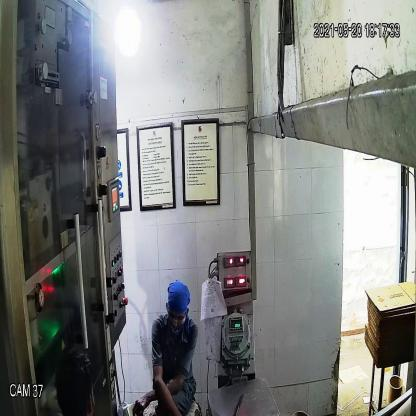goggles: (165, 306, 190, 328)
